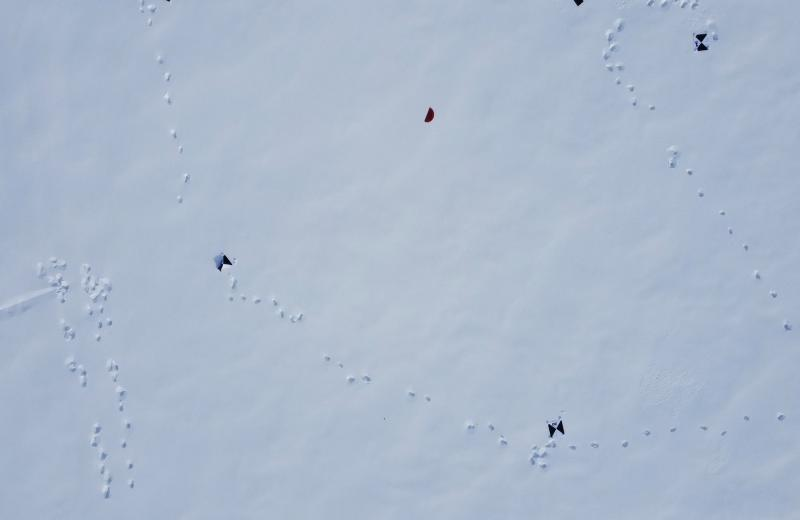Semi Circle: (424, 106, 435, 124)
Square: (572, 0, 585, 7)
